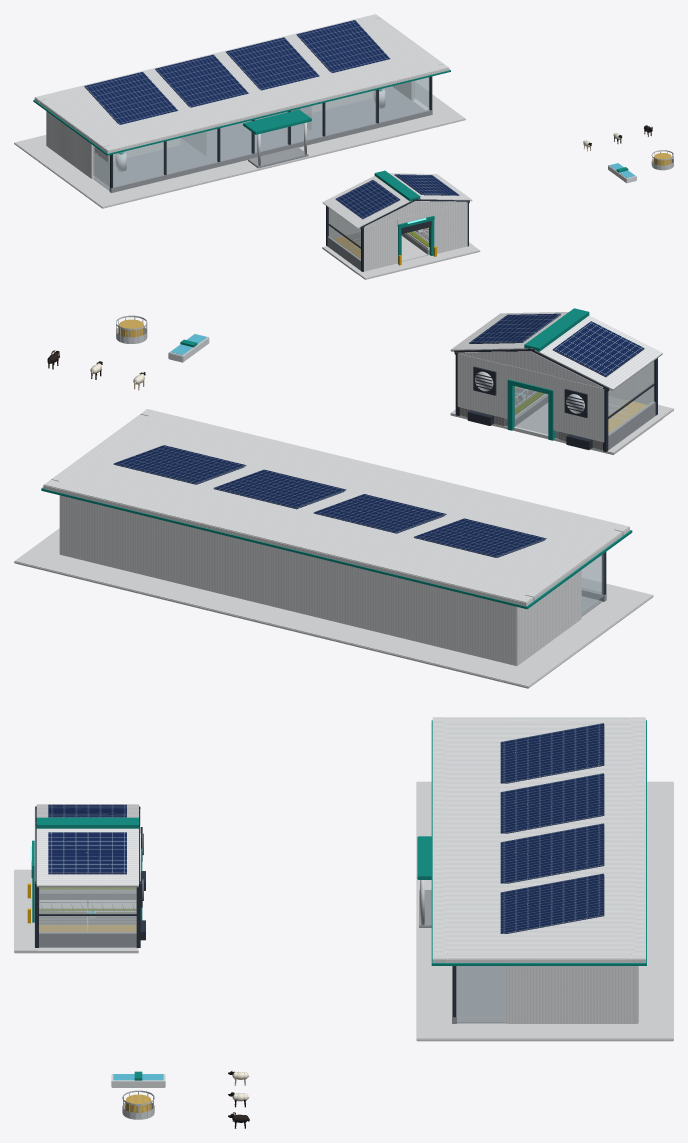
Rendered from sheep_sheds.glb.
3 views of the same model, one above another, from view 1: azimuth 30°, elevation 25°; view 2: azimuth 150°, elevation 25°; view 3: azimuth 270°, elevation 25° (orthographic). The views are drawn at different scales.
Visible parts, largest first — view 1: Sheep_Cutaway_B_BreedCenter_Mat_CutawaySolar, Sheep_Cutaway_BreedRoof, B_BreedCenter_Mat_ConcreteDark, B_BreedCenter_Mat_GlassClear, B_BreedCenter_Mat_CladdingWhite, BL_Plinth, Shed_End_Clean_Mat_CladdingWhite, Sheep_Cutaway_Shed_Bay_Mat_CutawaySolar, B_BreedCenter_Mat_TealAccent, Sheep_Cutaway_Shed_Bay_Mat_CutawayRoof, EndC_Apron, B_BreedCenter_Mat_SteelDark (+8 smaller); view 2: B_BreedCenter_Mat_CladdingWhite, Sheep_Cutaway_BreedRoof, BL_Plinth, Sheep_Cutaway_B_BreedCenter_Mat_CutawaySolar, Shed_End_Dirty_Mat_CladdingWhite, Sheep_Cutaway_Shed_Bay_Mat_CutawaySolar, Sheep_Cutaway_Shed_Bay_Mat_CutawayRoof, Shed_End_Dirty_Mat_SteelDark, B_BreedCenter_Mat_TealAccent, Shed_Bay_Mat_GlassVent, EndD_DoorGlass, Shed_Bay_Mat_ConcretePad (+6 smaller); view 3: Sheep_Cutaway_BreedRoof, Sheep_Cutaway_B_BreedCenter_Mat_CutawaySolar, B_BreedCenter_Mat_CladdingWhite, BL_Plinth, Sheep_Cutaway_Shed_Bay_Mat_CutawaySolar, Shed_Bay_Mat_GlassVent, Sheep_Cutaway_Shed_Bay_Mat_CutawayRoof, B_BreedCenter_Mat_ConcreteDark, B_BreedCenter_Mat_GlassClear, Shed_Bay_Mat_ConcreteDark, B_BreedCenter_Mat_TealAccent, EndC_Apron (+8 smaller).
Part boxes in pixels (<box>): Sheep_Cutaway_B_BreedCenter_Mat_CutawaySolar: <box>84,20,390,124</box>; Sheep_Cutaway_BreedRoof: <box>45,18,438,146</box>; B_BreedCenter_Mat_ConcreteDark: <box>93,86,432,192</box>; B_BreedCenter_Mat_GlassClear: <box>93,77,428,186</box>; B_BreedCenter_Mat_CladdingWhite: <box>34,14,449,178</box>; BL_Plinth: <box>14,82,465,208</box>; Shed_End_Clean_Mat_CladdingWhite: <box>364,201,468,271</box>; Sheep_Cutaway_Shed_Bay_Mat_CutawaySolar: <box>335,174,459,219</box>; B_BreedCenter_Mat_TealAccent: <box>33,69,450,155</box>; Sheep_Cutaway_Shed_Bay_Mat_CutawayRoof: <box>322,173,472,228</box>; EndC_Apron: <box>357,244,480,279</box>; B_BreedCenter_Mat_SteelDark: <box>110,76,432,188</box>; B_BreedCenter_Mat_CladdingWhite: <box>43,409,629,665</box>; Sheep_Cutaway_BreedRoof: <box>57,414,615,596</box>; BL_Plinth: <box>14,528,653,688</box>; Sheep_Cutaway_B_BreedCenter_Mat_CutawaySolar: <box>113,445,546,557</box>; Shed_End_Dirty_Mat_CladdingWhite: <box>455,351,604,442</box>; Sheep_Cutaway_Shed_Bay_Mat_CutawaySolar: <box>469,313,644,377</box>; Sheep_Cutaway_Shed_Bay_Mat_CutawayRoof: <box>450,312,662,390</box>; Shed_End_Dirty_Mat_SteelDark: <box>454,348,609,451</box>; B_BreedCenter_Mat_TealAccent: <box>41,487,632,609</box>; Shed_Bay_Mat_GlassVent: <box>608,361,654,434</box>; EndD_DoorGlass: <box>513,386,547,434</box>; Shed_Bay_Mat_ConcretePad: <box>450,403,662,454</box>; Sheep_Cutaway_BreedRoof: <box>443,721,634,954</box>; Sheep_Cutaway_B_BreedCenter_Mat_CutawaySolar: <box>500,723,604,933</box>; B_BreedCenter_Mat_CladdingWhite: <box>432,717,645,1023</box>; BL_Plinth: <box>416,781,673,1041</box>; Sheep_Cutaway_Shed_Bay_Mat_CutawaySolar: <box>48,804,126,874</box>; Shed_Bay_Mat_GlassVent: <box>39,887,136,932</box>; Sheep_Cutaway_Shed_Bay_Mat_CutawayRoof: <box>36,804,138,887</box>; B_BreedCenter_Mat_ConcreteDark: <box>419,890,506,1023</box>; B_BreedCenter_Mat_GlassClear: <box>456,966,505,1017</box>; Shed_Bay_Mat_ConcreteDark: <box>39,893,136,947</box>; B_BreedCenter_Mat_TealAccent: <box>417,720,646,965</box>; EndC_Apron: <box>14,869,37,953</box>.
Size of the model in its own units: 48.3 by 6.09 by 38.95.
Materials: 23 (7 with a texture image).
